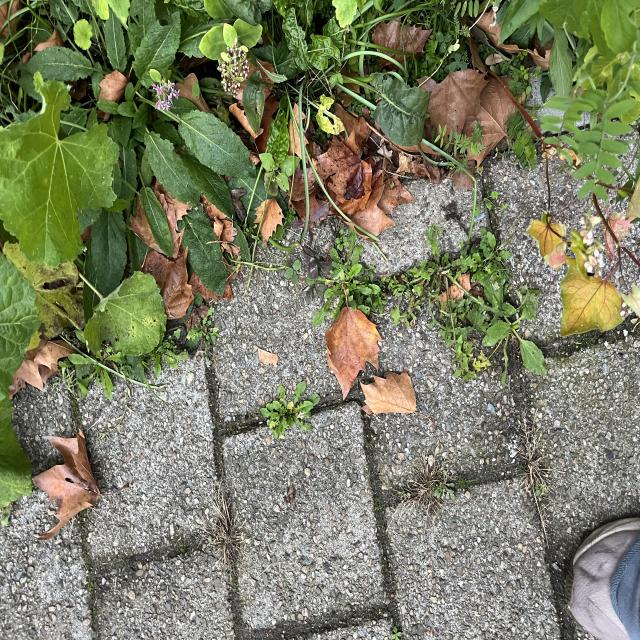leaves: (180, 450, 232, 533), (80, 62, 146, 126)
plants: (192, 0, 475, 640)
weed: (210, 589, 298, 640), (252, 437, 300, 501)
weedling: (153, 347, 191, 421)
